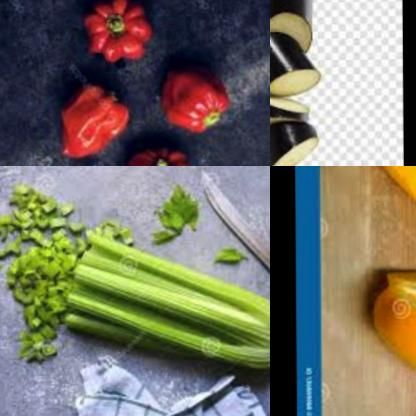bell pepper: (55, 77, 137, 166), (365, 261, 416, 395), (152, 62, 230, 136), (76, 0, 156, 68), (114, 144, 195, 166)
celery: (57, 224, 270, 379), (0, 169, 84, 370), (147, 186, 245, 274), (86, 215, 142, 258)
eggplant: (270, 30, 323, 99), (270, 0, 317, 56), (270, 119, 321, 166), (270, 94, 311, 132)
